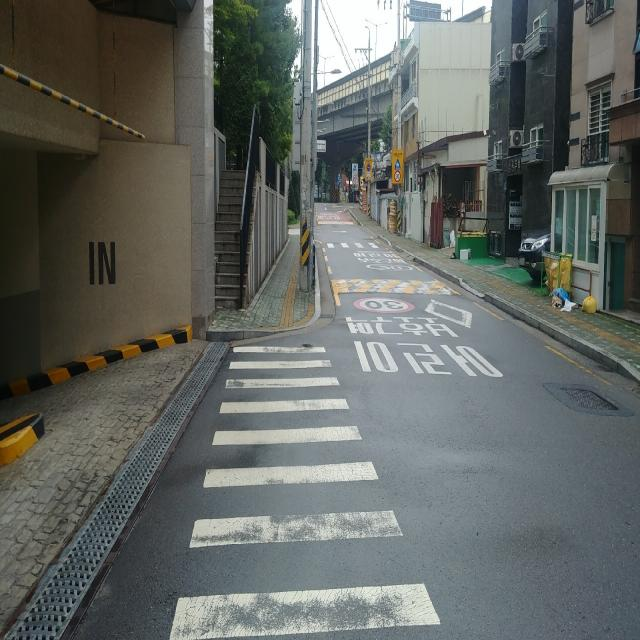횡단보도: (168, 345, 442, 640)
